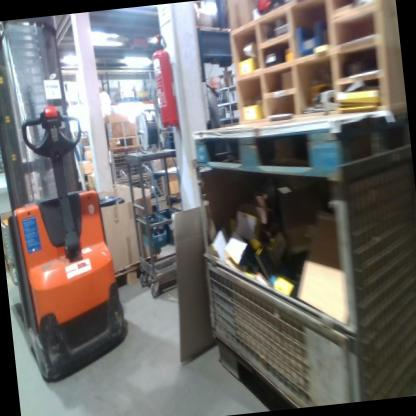pallet: (105, 132, 140, 153)
pallet_truck: (0, 12, 140, 391)
stillage: (188, 132, 416, 414), (106, 139, 171, 214)
